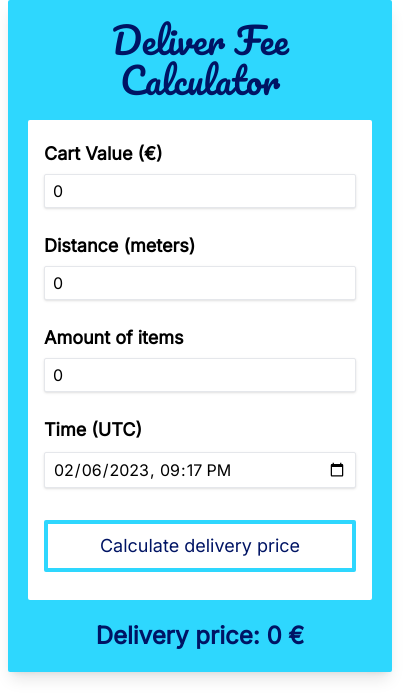
Test: Error message should be displayed when a user enters floats to distance and amount of items inputs.
This screenshot has width=409, height=698.
Replace the text in the number field labelled "Distance (meters)" with "1.2" at (200, 283), box [44, 266, 356, 300]
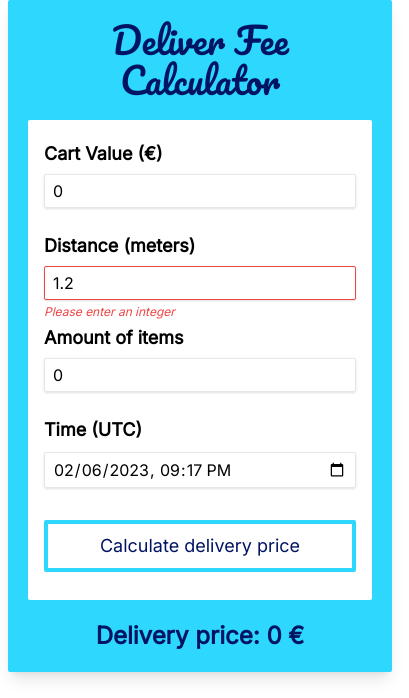
Replace the text in the number field labelled "Amount of items" with "1.2" at (200, 375), box [44, 358, 356, 392]
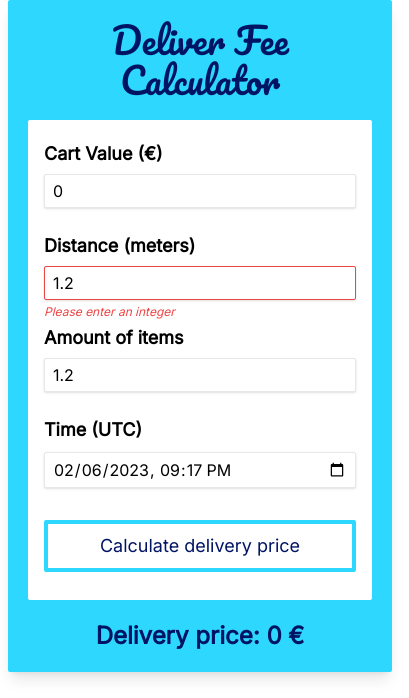
Leave the number field labelled "Amount of items", box [44, 358, 356, 392]
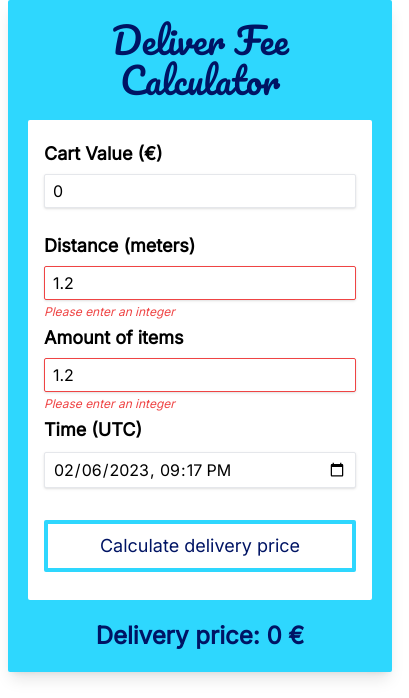
Now the text "Please enter an integer" is shown 2 times, box [44, 304, 175, 320]; [44, 396, 175, 412]
